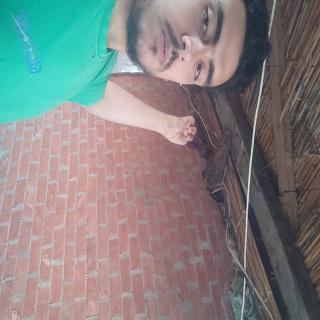HA: (81, 158, 116, 214)
